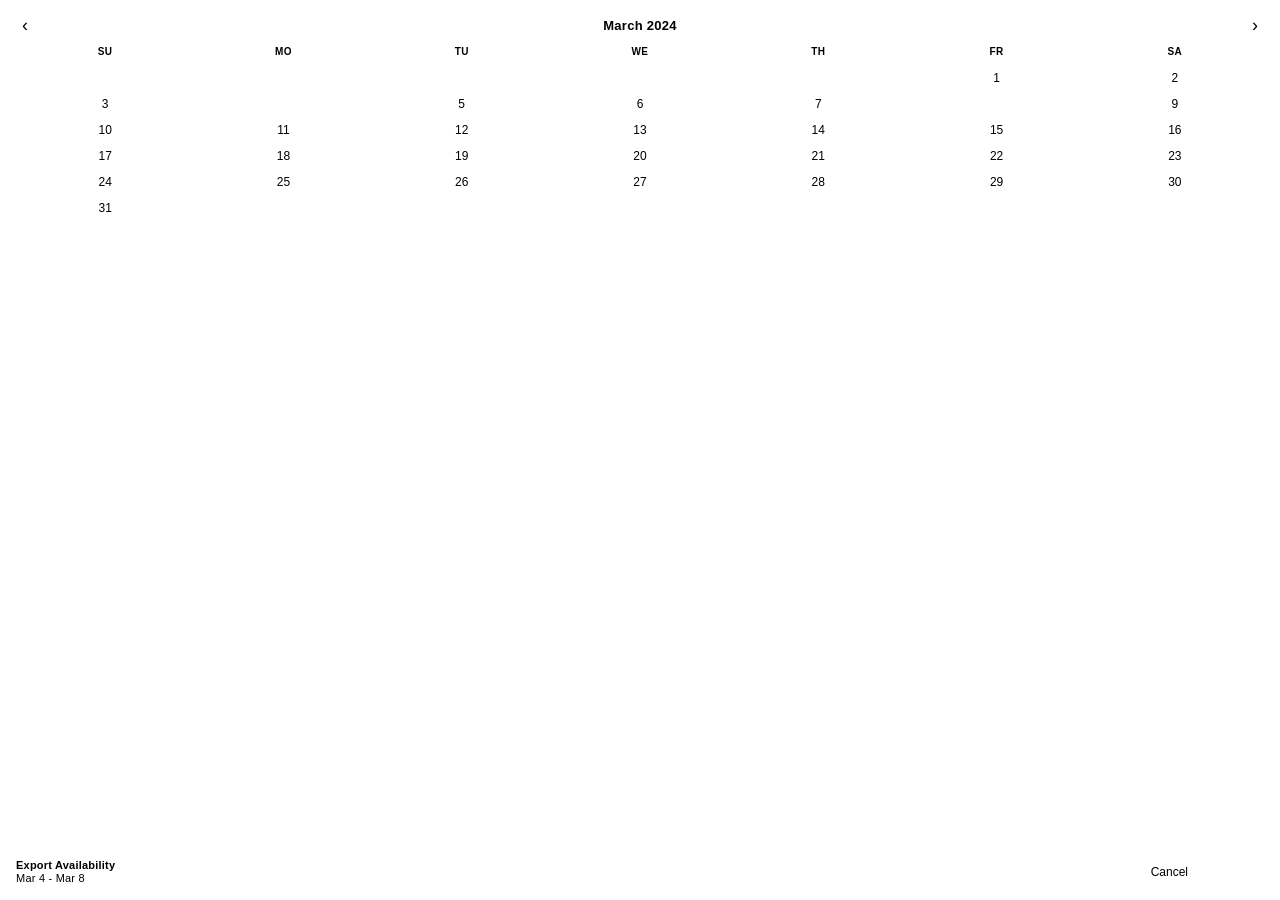
Test: DateRangePicker › navigates to next month on › click
Click the button "›" at (1255, 25), box [1246,14,1264,36]
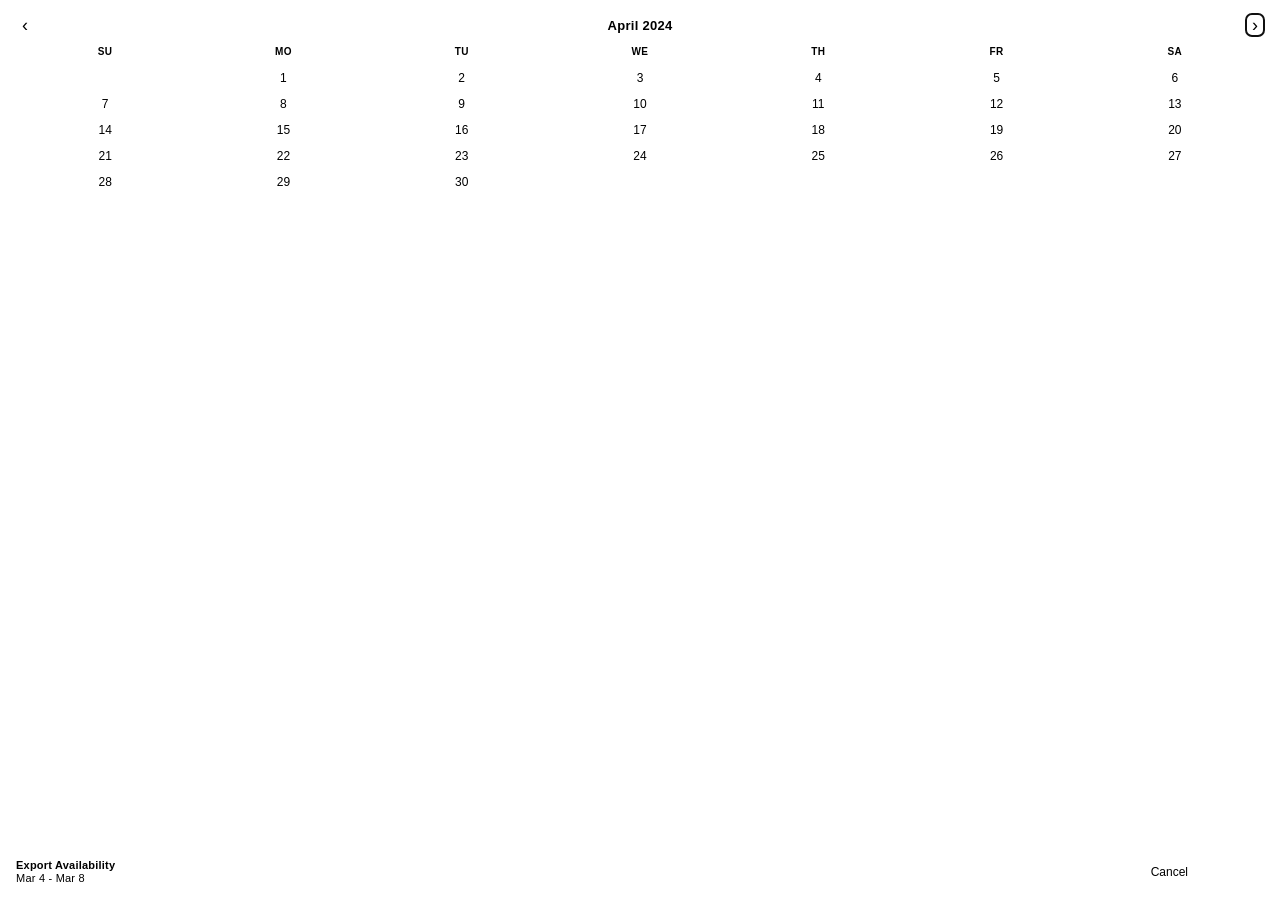
Expected: the text "April 2024" is shown, [608,18,672,32]
